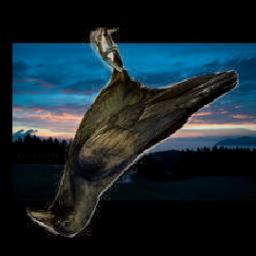Crow: (24, 28, 239, 238)
